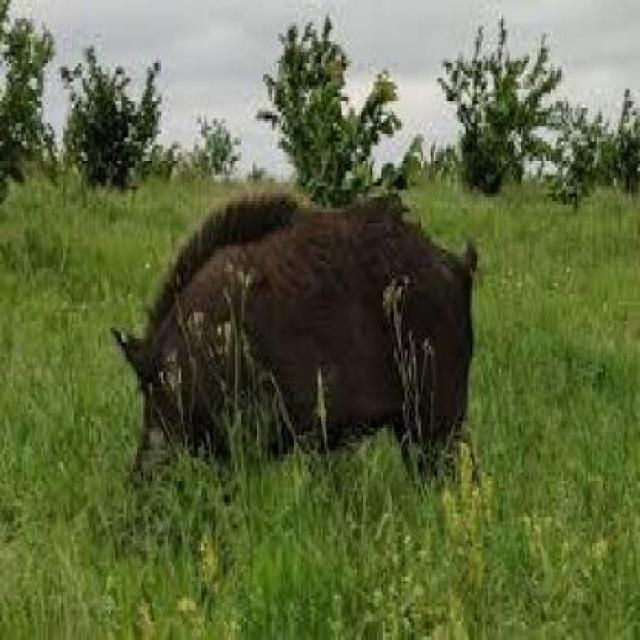Wild Boar: (109, 182, 482, 496)
